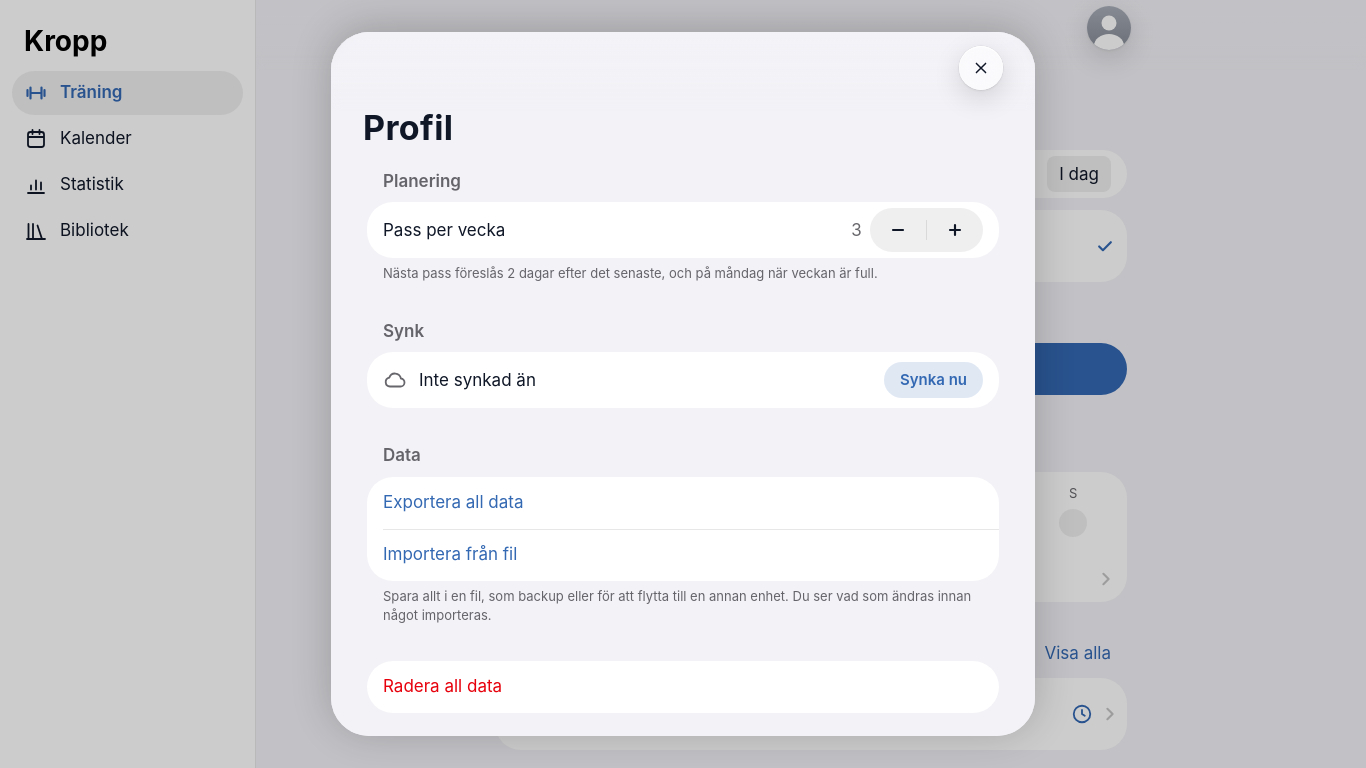
deleting all data › tells what goes, everywhere and for good, before it asks
Click the button with test id "delete-all-data" at (443, 686), box [367,661,999,713]
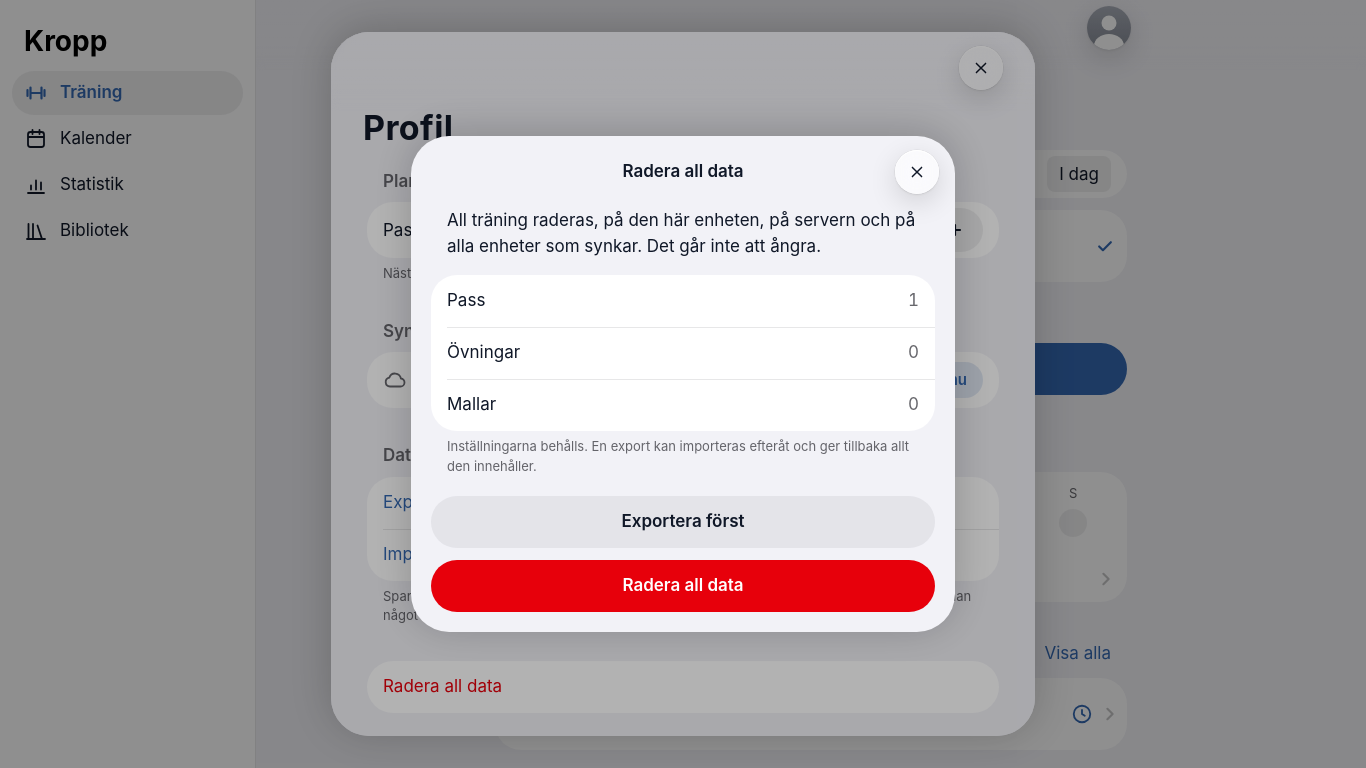
Expected: the text with test id "delete-all-warning" shows "All träning raderas, på den här enheten, på servern och på alla enheter som synkar. Det går inte att ångra.", [447,210,915,256]
Expected: the list with test id "delete-all-summary" reads "Pass 1 Övningar 0 Mallar 0", [431,275,935,431]
